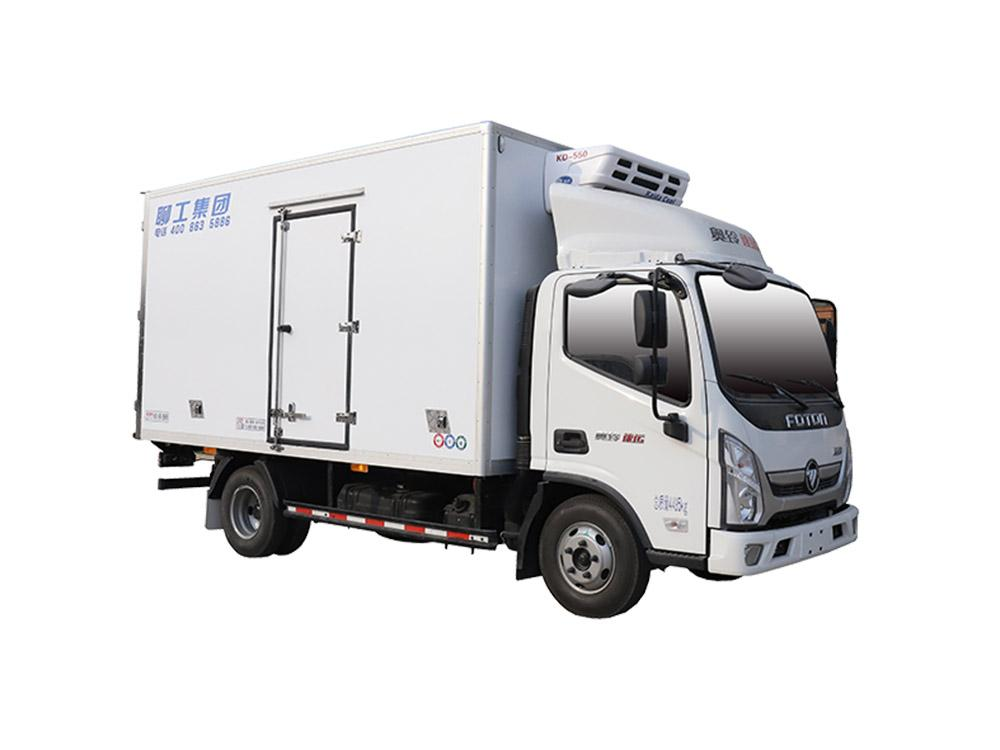truck: (110, 117, 874, 628)
